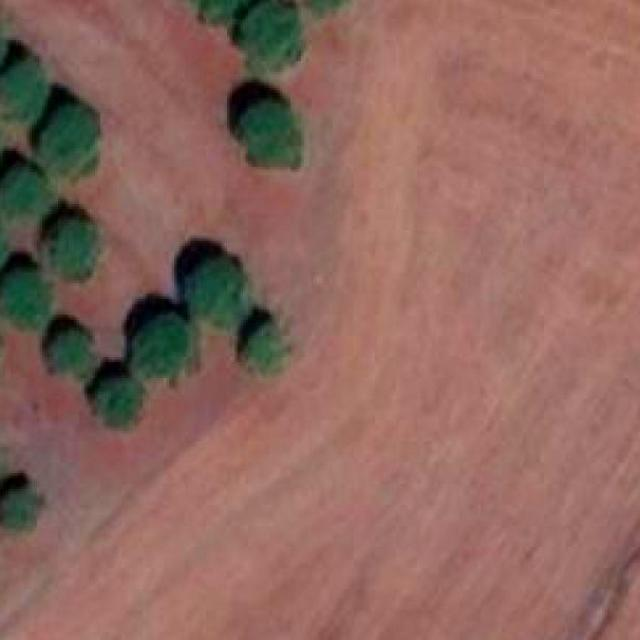Tree: (232, 0, 303, 74), (230, 104, 304, 170), (37, 104, 100, 178), (134, 315, 196, 381), (47, 220, 109, 286), (183, 260, 246, 323), (0, 269, 53, 331), (0, 58, 50, 122), (0, 165, 48, 223), (44, 328, 95, 382), (241, 325, 297, 373), (93, 378, 146, 426), (0, 486, 45, 532), (193, 0, 238, 24), (304, 0, 350, 17)
